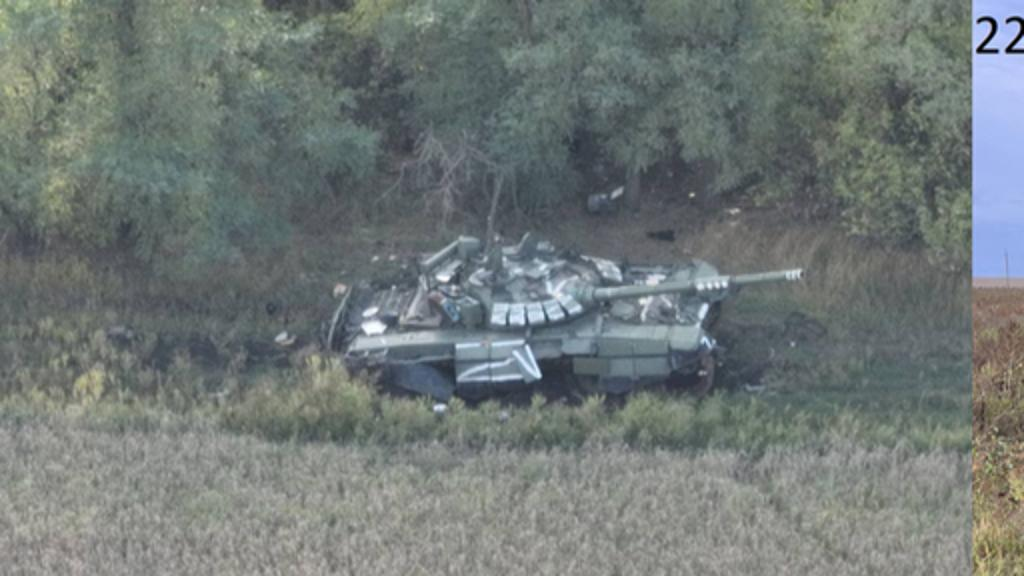TANK: (322, 232, 804, 408)
